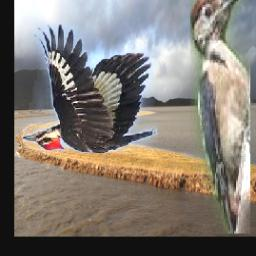Woodpecker: (23, 24, 158, 153), (191, 0, 251, 234)
